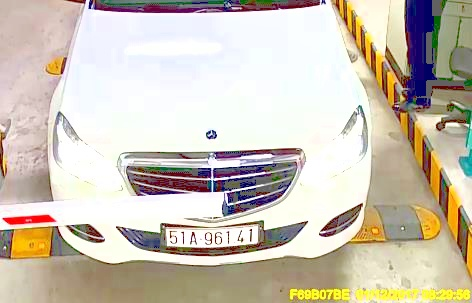plate: (156, 218, 263, 248)
